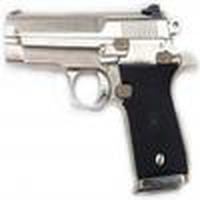gun: (5, 5, 194, 194)
